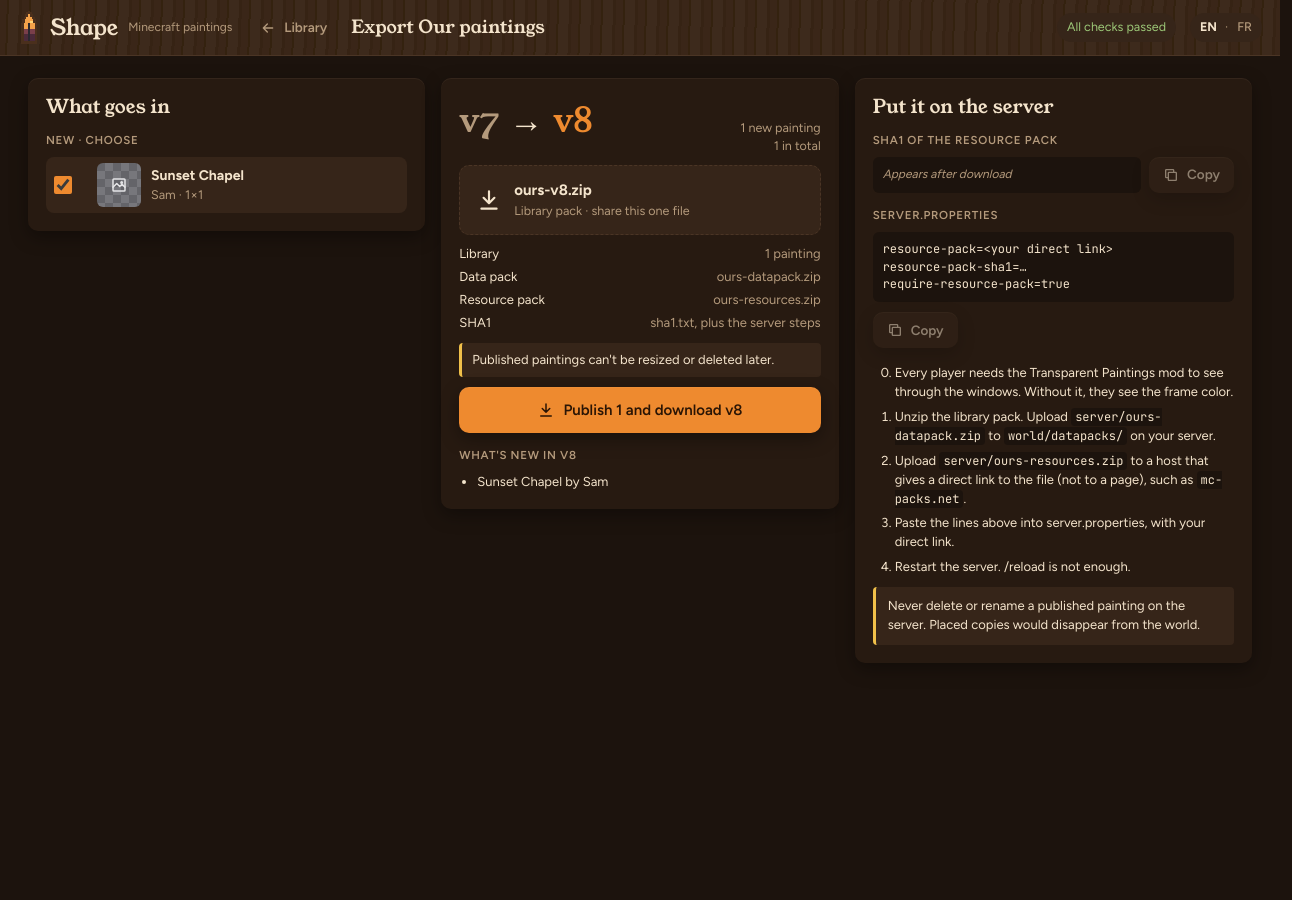
Test: ExportScreen › gives the very same file when the last version is downloaded again
The width and height of the screenshot is (1292, 900).
Click the button "Publish 1 and download v8" at [640, 410], box top-left (459, 387), bottom-right (821, 433)
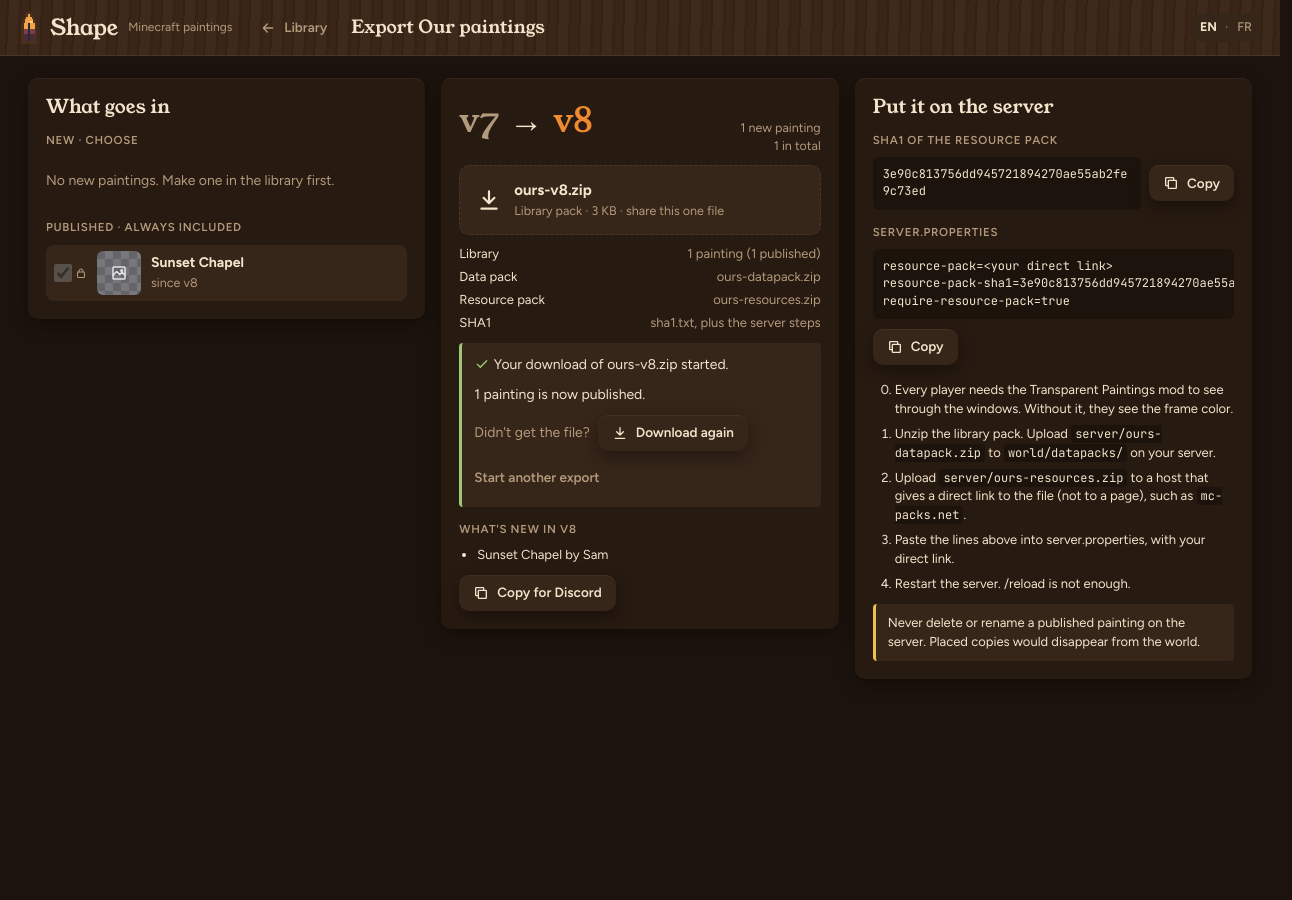
expect the text "3e90c813756dd945721894270ae55ab2fe9c73ed" is shown: met, box top-left (873, 157), bottom-right (1141, 210)
Click the button "Start another export" at [544, 478], box top-left (474, 461), bottom-right (614, 495)
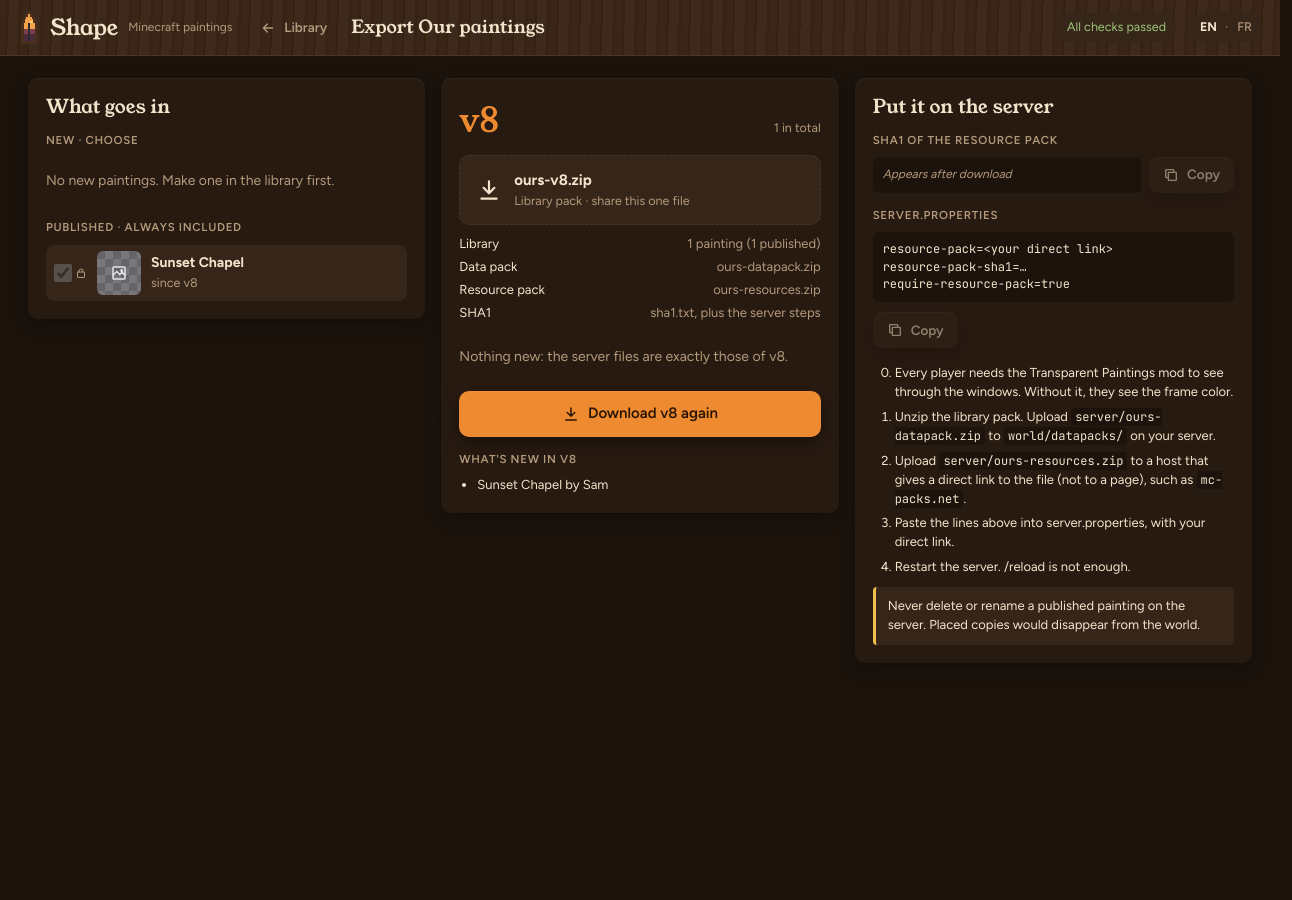
expect the button "Download v8 again" is shown: met
Click the button "Download v8 again" at [640, 414], box top-left (459, 391), bottom-right (821, 437)
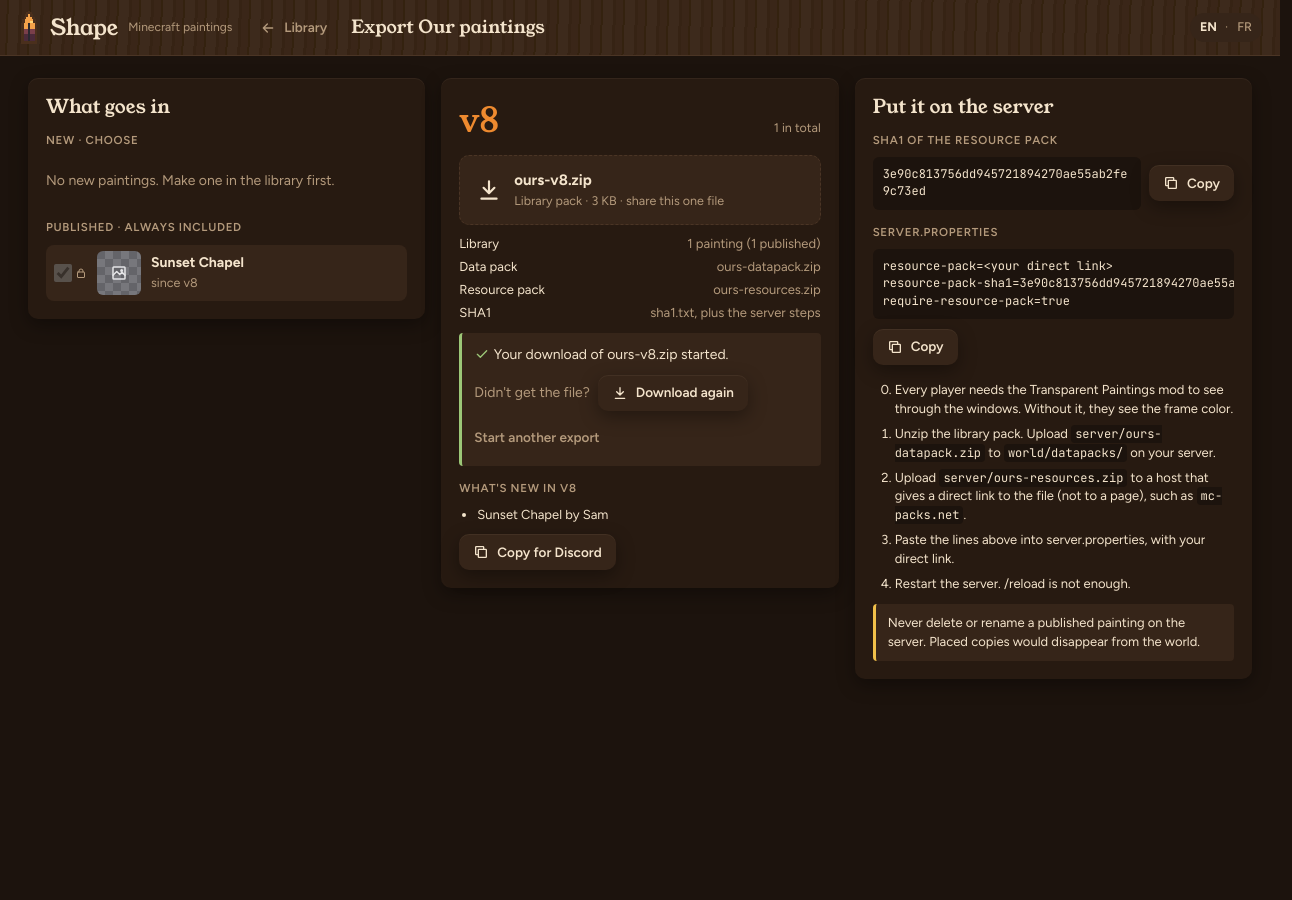
expect the text "ours-v8.zip" is shown: met, box top-left (514, 171), bottom-right (592, 189)
expect the text "Your download of ours-v8.zip started." is shown: met, box top-left (474, 346), bottom-right (728, 362)
